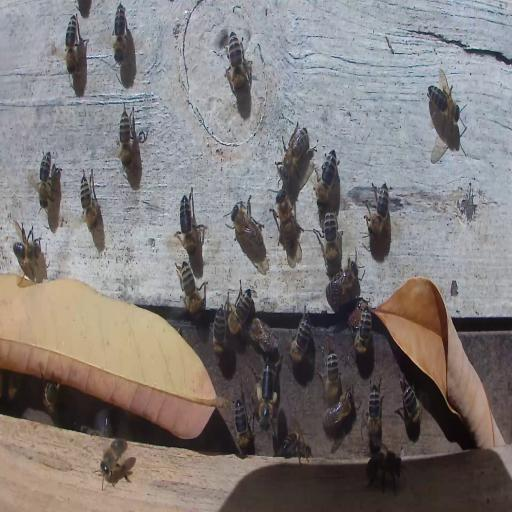bee: (229, 201, 266, 257), (364, 448, 408, 495), (274, 123, 312, 177), (176, 259, 206, 316), (273, 185, 298, 251), (427, 80, 461, 127), (256, 358, 278, 428), (79, 166, 101, 235), (365, 180, 391, 238), (98, 431, 128, 480), (12, 221, 41, 270), (398, 376, 423, 432), (224, 284, 252, 334), (226, 35, 249, 95), (314, 150, 338, 207), (326, 258, 354, 306), (289, 304, 311, 364), (180, 189, 199, 257), (248, 316, 278, 358), (320, 210, 340, 273), (350, 302, 374, 354), (365, 380, 382, 450), (232, 398, 251, 458), (278, 428, 311, 462), (323, 393, 351, 428), (118, 110, 135, 167), (322, 349, 340, 402), (113, 2, 127, 63), (38, 149, 52, 208), (65, 15, 77, 75), (212, 310, 226, 360), (44, 378, 59, 421)
